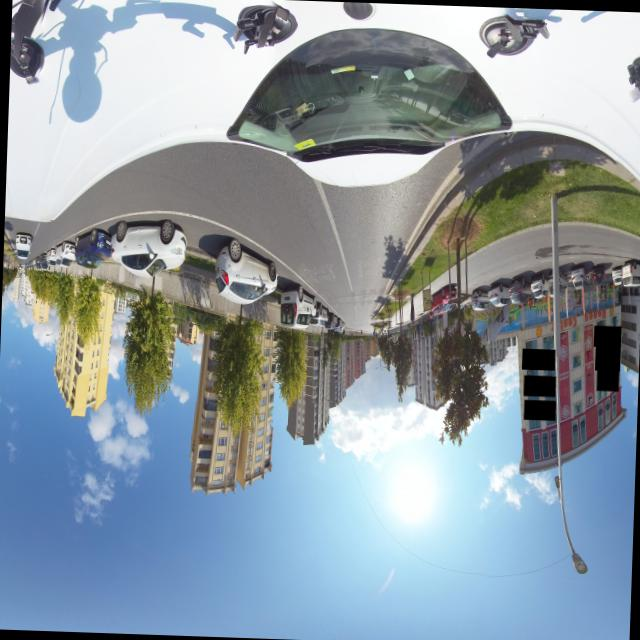SignStore: (521, 348, 554, 368), (522, 375, 554, 395), (522, 399, 555, 418), (594, 346, 619, 369), (592, 325, 620, 345), (595, 366, 618, 389)
